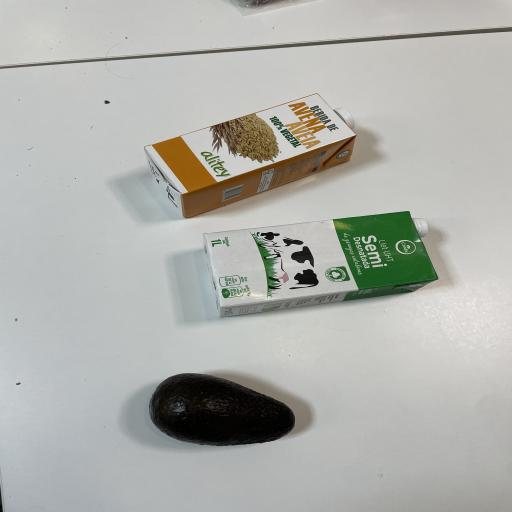avocado: (124, 354, 325, 462)
milk: (172, 194, 470, 326)
oat_milk: (128, 94, 458, 226)
